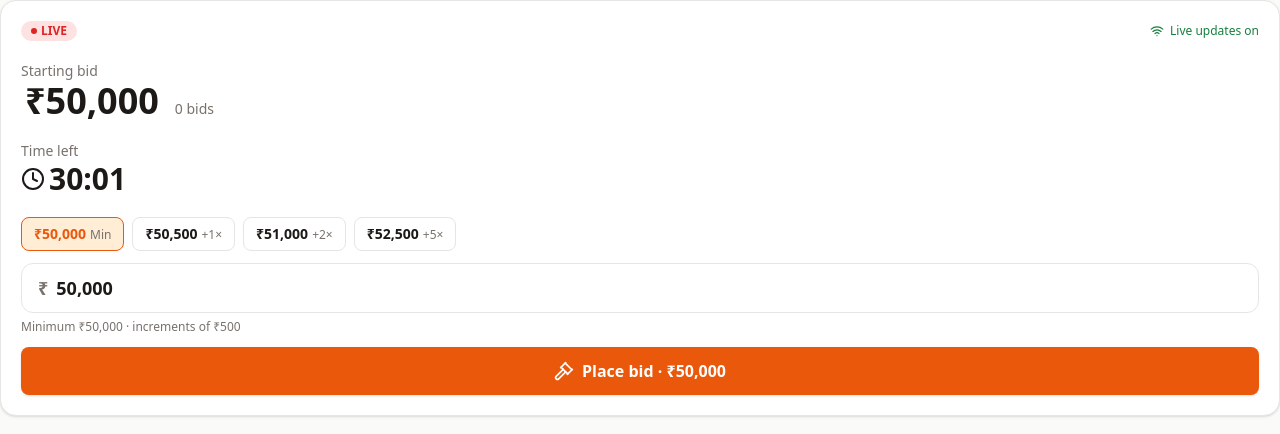
Test: BidPanel › offers quick-bid chips that fill the field
Click the button "₹51,000+2×" at [294, 234], box [243,217,346,251]
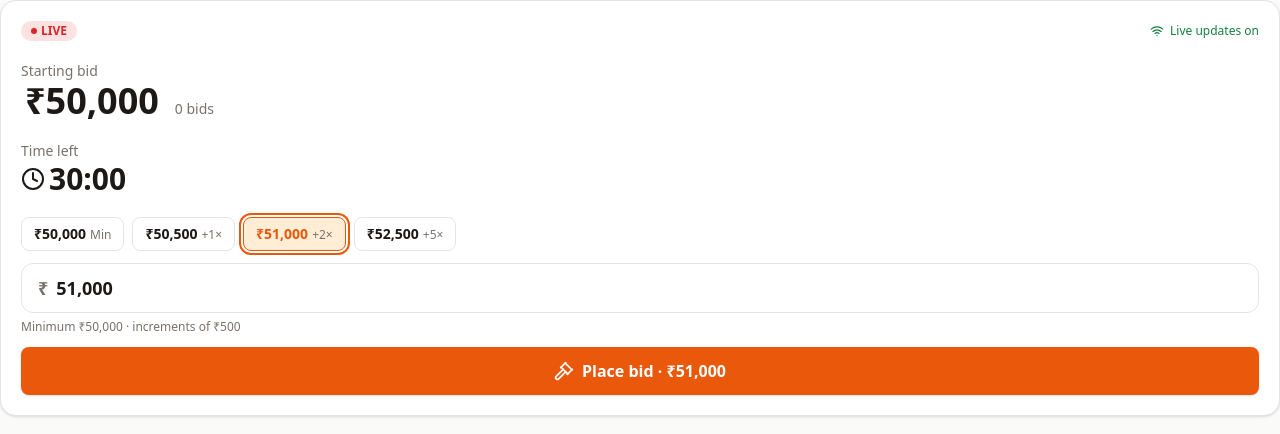
Expected: the field named "Your bid in rupees" holds "51,000", [48,264,1258,312]
Expected: the button "Place bid · ₹51,000" is shown, [21,347,1259,395]
